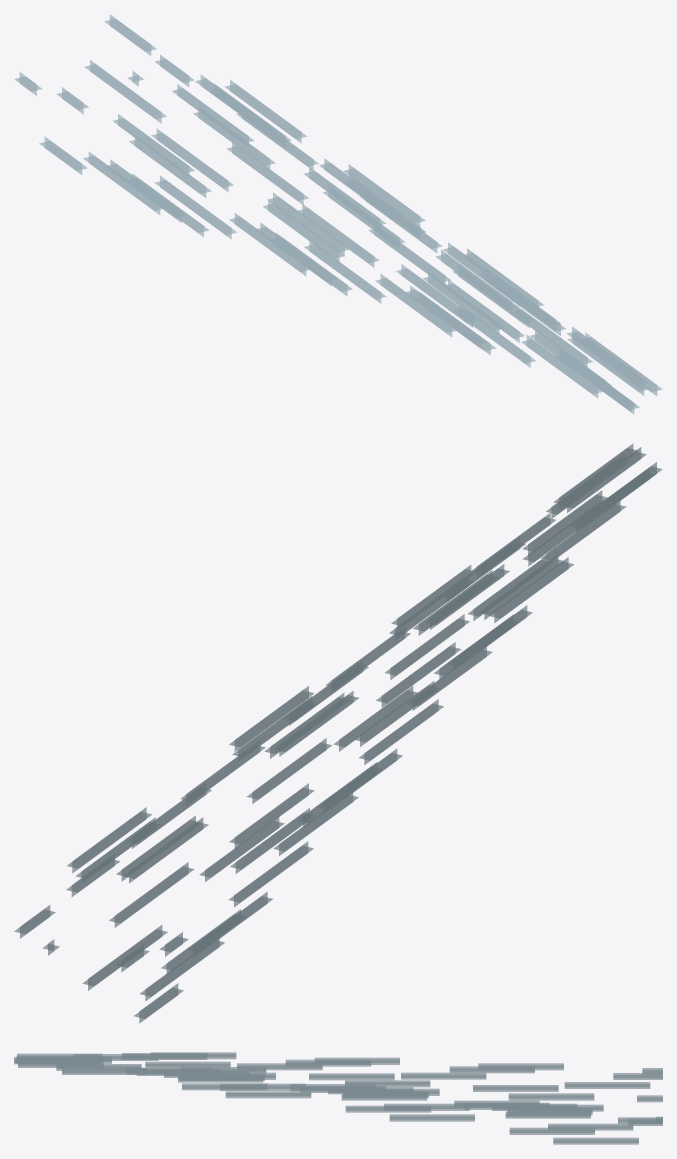
Rendered from wp_water_307.obj.
The picture shows the model from 3 angles, top to bottom: view 1: azimuth 30°, elevation 25°; view 2: azimuth 150°, elevation 25°; view 3: azimuth 270°, elevation 25°; orthographic projection. The views are drawn at different scales.
Size of the model in its own units: 0.3113 by 0.2775 by 1.82.
1 material, 1 textured.
